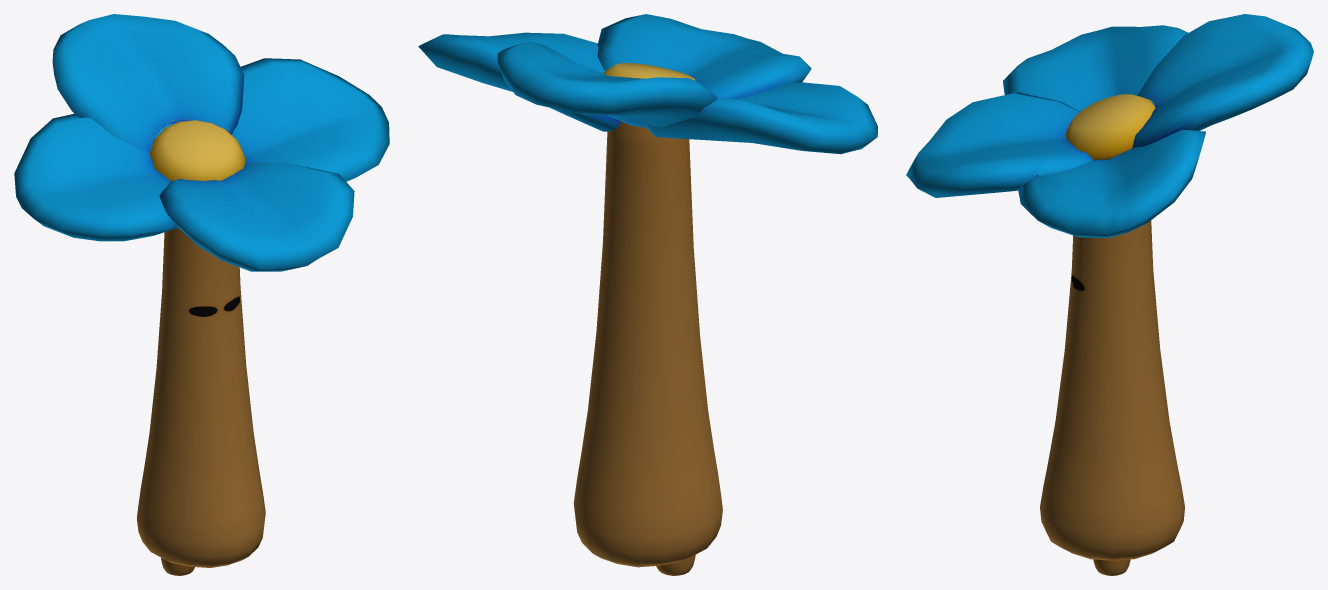
Rendered from Flower08.fbx.
The picture shows the model from 3 angles, left to right: view 1: azimuth 30°, elevation 25°; view 2: azimuth 150°, elevation 25°; view 3: azimuth 270°, elevation 25°; orthographic projection. The views are drawn at different scales.
Parts seen in each view (by area): view 1: polySurface6, polySurface4, polySurface2, polySurface3, polySurface5, polySurface1; view 2: polySurface6, polySurface3, polySurface2, polySurface4, polySurface5, polySurface1; view 3: polySurface6, polySurface4, polySurface2, polySurface5, polySurface3, polySurface1.
Boxes of the visible parts, bbox=[...] form: polySurface6: bbox=[136, 228, 265, 567]; polySurface4: bbox=[52, 14, 244, 151]; polySurface2: bbox=[159, 162, 354, 271]; polySurface3: bbox=[14, 113, 177, 241]; polySurface5: bbox=[232, 58, 389, 181]; polySurface1: bbox=[150, 120, 245, 181]; polySurface6: bbox=[573, 121, 722, 567]; polySurface3: bbox=[647, 82, 877, 154]; polySurface2: bbox=[597, 14, 811, 98]; polySurface4: bbox=[497, 41, 717, 127]; polySurface5: bbox=[418, 32, 620, 131]; polySurface1: bbox=[603, 63, 695, 80]; polySurface6: bbox=[1040, 220, 1184, 560]; polySurface4: bbox=[1132, 14, 1313, 148]; polySurface2: bbox=[906, 92, 1093, 197]; polySurface5: bbox=[1018, 129, 1205, 237]; polySurface3: bbox=[1003, 25, 1188, 111]; polySurface1: bbox=[1065, 94, 1155, 160].
Bounding box in the file's own units: 83.89 × 105 × 75.63.
1 material, 1 textured.
